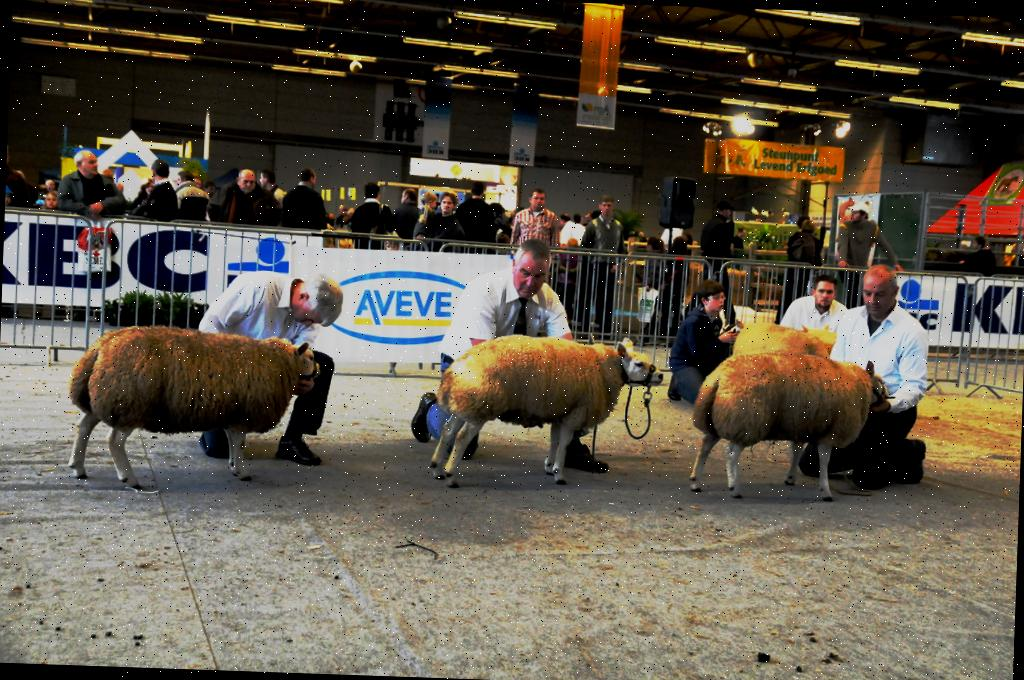Sheep: (70, 324, 322, 495), (429, 329, 661, 493), (691, 350, 888, 501), (734, 320, 827, 357), (800, 326, 838, 335)
